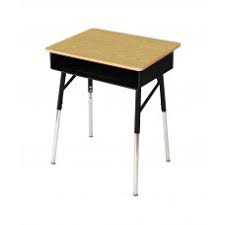desk: (44, 97, 180, 197)
